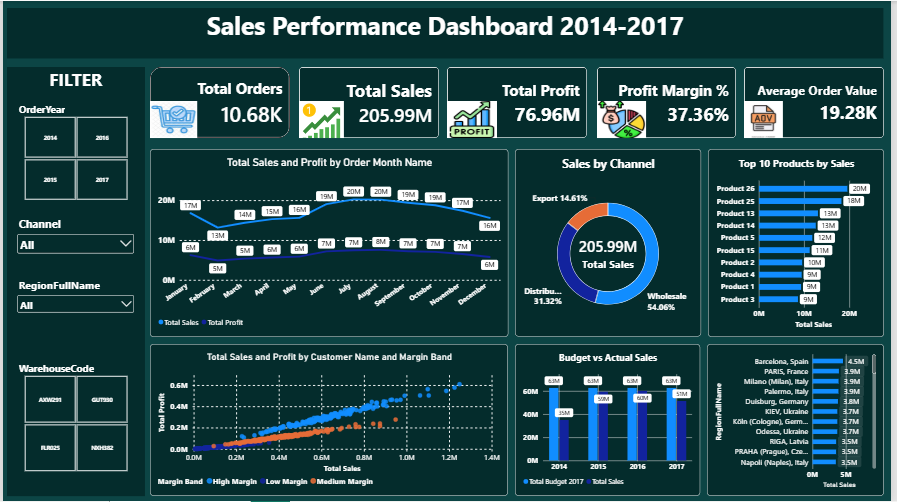

What the dashboard file says about the page in this screenshot:
{"tool":"powerbi","page":{"name":"Sales Performance","canvas":[1920,1080],"ordinal":0},"visuals":[{"type":"textbox","box":[8.9,142.2,297.8,926.7],"z":0},{"type":"cardVisual","fields":{"Data":["project vw_salesdashboard.Total Orders"]},"box":[317.5,142.6,302.4,153.4],"z":1000},{"type":"cardVisual","fields":{"Data":["project vw_salesdashboard.Total Sales"]},"box":[639.4,142.6,302.4,153.4],"z":2000},{"type":"cardVisual","fields":{"Data":["project vw_salesdashboard.Total Profit"]},"box":[959,142.6,302.4,153.4],"z":3000},{"type":"cardVisual","fields":{"Data":["project vw_salesdashboard.Profit Margin %"]},"box":[1283,142.6,300.2,153.4],"z":4000},{"type":"cardVisual","fields":{"Data":["project vw_salesdashboard.Average Order Value"]},"box":[1600.6,142.6,302.4,153.4],"z":5000},{"type":"lineChart","title":"Total Sales and Profit by Order Month Name","fields":{"Category":["project vw_salesdashboard.OrderMonthName"],"Y":["project vw_salesdashboard.Total Sales","project vw_salesdashboard.Total Profit"]},"box":[317.5,319.7,774,406],"z":6000},{"type":"donutChart","title":"Sales by Channel","fields":{"Y":["project vw_salesdashboard.Total Sales"],"Category":["project vw_salesdashboard.Channel"]},"box":[1105.9,319.7,401.7,405],"z":7000},{"type":"barChart","title":"Sales by Region","fields":{"Category":["project vw_salesdashboard.RegionFullName"],"Y":["project vw_salesdashboard.Total Sales"]},"box":[1520.6,740.9,382.3,328.3],"z":8000},{"type":"barChart","title":"Top 10 Products by Sales","fields":{"Category":["project vw_salesdashboard.ProductName"],"Y":["project vw_salesdashboard.Total Sales"]},"box":[1522.8,319.7,380,406],"z":9000},{"type":"scatterChart","title":"Total Sales and Profit by Customer Name and Margin Band","fields":{"X":["project vw_salesdashboard.Total Sales"],"Y":["project vw_salesdashboard.Total Profit"],"Category":["project vw_salesdashboard.CustomerName"],"Series":["project vw_salesdashboard.Margin Band"]},"box":[317.5,740.9,773.3,328.3],"z":10000},{"type":"clusteredColumnChart","title":"Budget vs Actual Sales","fields":{"Category":["project vw_salesdashboard.OrderYear"],"Y":["project vw_salesdashboard.Total Budget 2017","project vw_salesdashboard.Total Sales"]},"box":[1105.9,740.9,399.6,328.3],"z":11000},{"type":"slicer","fields":{"Values":["project vw_salesdashboard.OrderYear"]},"box":[26.7,217.8,262.2,213.3],"z":12000},{"type":"slicer","fields":{"Values":["project vw_salesdashboard.Channel"]},"box":[26.7,464.4,262.2,117.8],"z":13000},{"type":"slicer","fields":{"Values":["project vw_salesdashboard.WarehouseCode"]},"box":[26.7,777.8,262.2,240],"z":14000},{"type":"slicer","fields":{"Values":["project vw_salesdashboard.RegionFullName"]},"box":[26.7,597.8,262.2,160],"z":15000},{"type":"textbox","box":[8.9,15.6,1893.3,108.9],"z":16000},{"type":"image","box":[1283,216,105.8,79.9],"z":17000},{"type":"image","box":[959,216,108,79.9],"z":18000},{"type":"image","box":[317.5,216,101.5,79.9],"z":19000},{"type":"image","box":[639.4,216,97.2,79.9],"z":20000},{"type":"image","box":[1600.6,216,84.2,79.9],"z":20001}]}

Visuals, with their boxes in screenshot pixels (x1, y1, x2, y2), scaled from the page's 1920x1080 canvas onto the 897x502 screenshot:
textbox: <region>4, 66, 143, 497</region>
cardVisual - project vw_salesdashboard.Total Orders: <region>148, 66, 290, 138</region>
cardVisual - project vw_salesdashboard.Total Sales: <region>299, 66, 440, 138</region>
cardVisual - project vw_salesdashboard.Total Profit: <region>448, 66, 589, 138</region>
cardVisual - project vw_salesdashboard.Profit Margin %: <region>599, 66, 740, 138</region>
cardVisual - project vw_salesdashboard.Average Order Value: <region>748, 66, 889, 138</region>
"Total Sales and Profit by Order Month Name" lineChart: <region>148, 149, 510, 337</region>
"Sales by Channel" donutChart: <region>517, 149, 704, 337</region>
"Sales by Region" barChart: <region>710, 344, 889, 497</region>
"Top 10 Products by Sales" barChart: <region>711, 149, 889, 337</region>
"Total Sales and Profit by Customer Name and Margin Band" scatterChart: <region>148, 344, 510, 497</region>
"Budget vs Actual Sales" clusteredColumnChart: <region>517, 344, 703, 497</region>
slicer - project vw_salesdashboard.OrderYear: <region>12, 101, 135, 200</region>
slicer - project vw_salesdashboard.Channel: <region>12, 216, 135, 271</region>
slicer - project vw_salesdashboard.WarehouseCode: <region>12, 362, 135, 473</region>
slicer - project vw_salesdashboard.RegionFullName: <region>12, 278, 135, 352</region>
textbox: <region>4, 7, 889, 58</region>
image: <region>599, 100, 649, 138</region>
image: <region>448, 100, 498, 138</region>
image: <region>148, 100, 196, 138</region>
image: <region>299, 100, 344, 138</region>
image: <region>748, 100, 787, 138</region>
